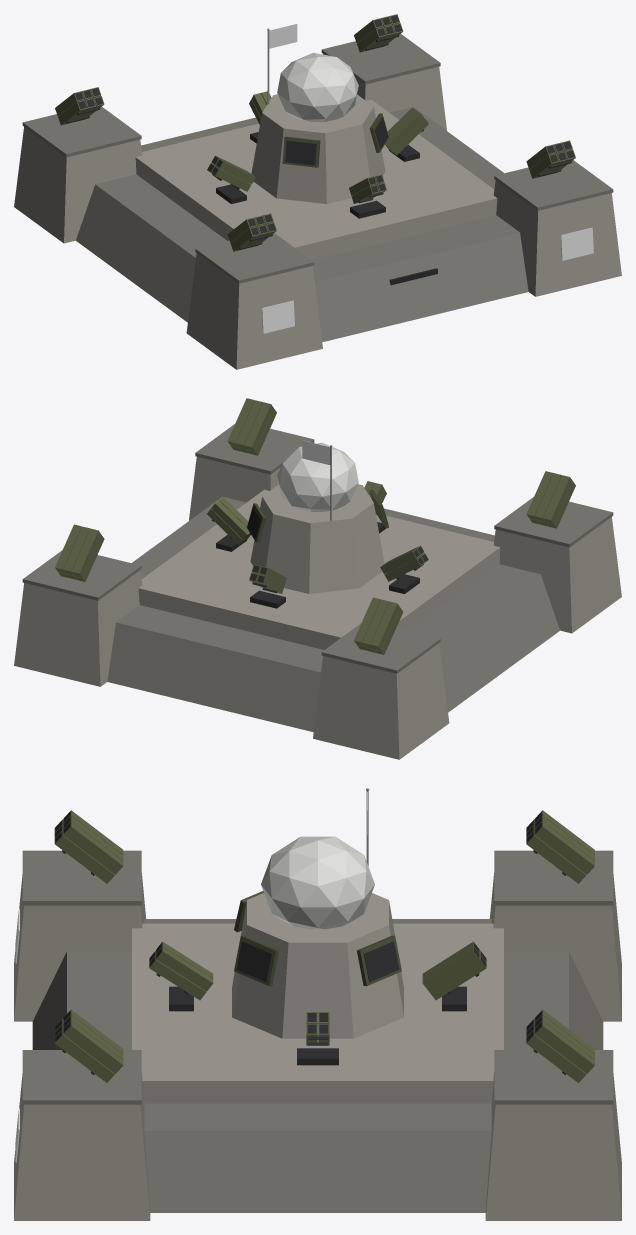
Rendered from aa_fortress.glb.
3 views of the same model, one above another, from view 1: azimuth 30°, elevation 25°; view 2: azimuth 150°, elevation 25°; view 3: azimuth 270°, elevation 25° (orthographic). The views are drawn at different scales.
Parts seen in each view (by area): view 1: Body, Flag; view 2: Body, Flag; view 3: Body.
Boxes of the visible parts, bbox=[...] form: Body: bbox=[14, 14, 621, 369]; Flag: bbox=[269, 24, 297, 48]; Body: bbox=[14, 398, 621, 759]; Flag: bbox=[302, 440, 330, 464]; Body: bbox=[14, 788, 621, 1220].
Size of the model in its own units: 49 by 25.2 by 49.
